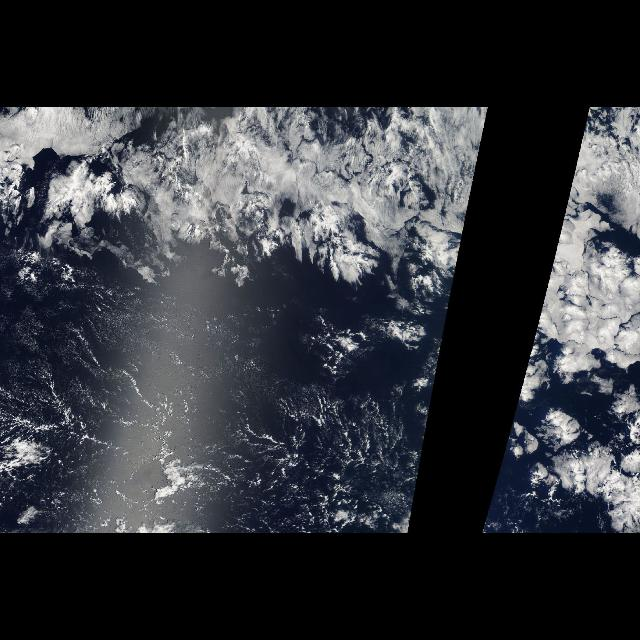Flower: (3, 129, 484, 383), (513, 129, 639, 533)
Sugar: (9, 306, 338, 476)
